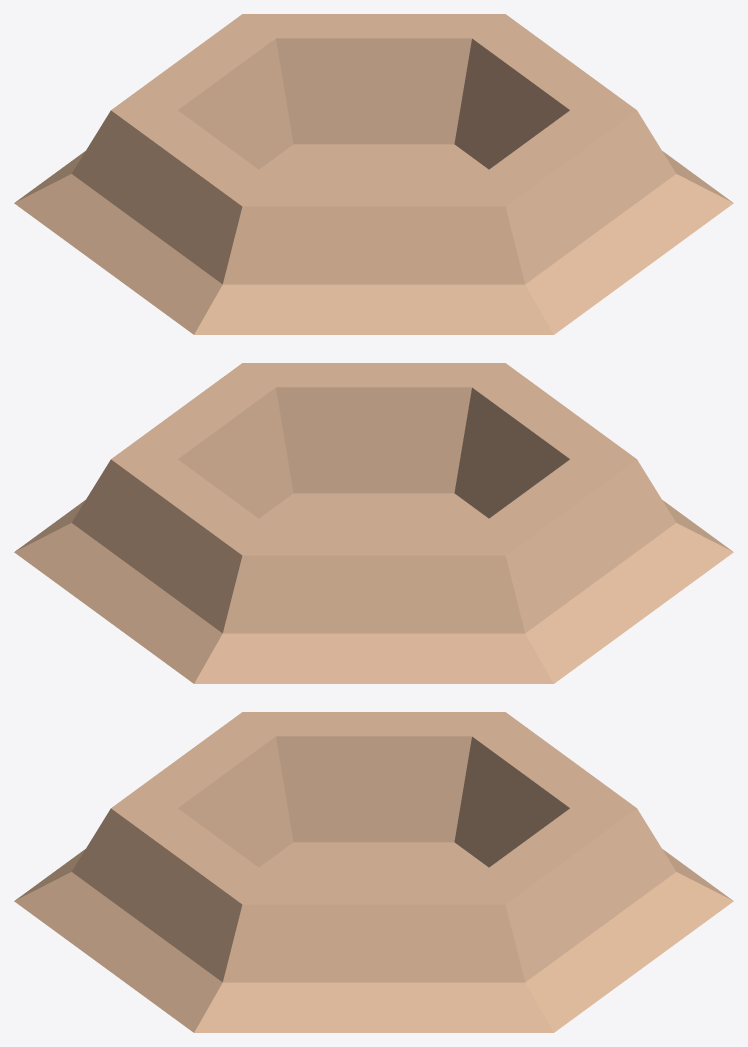
Rendered from crater.glb.
3 views of the same model, one above another, from view 1: azimuth 30°, elevation 25°; view 2: azimuth 150°, elevation 25°; view 3: azimuth 270°, elevation 25° (orthographic).
Parts seen in each view (by area): view 1: crater; view 2: crater; view 3: crater.
Part boxes in pixels (x1,y1,x2,y2): crater: (14, 14, 733, 334); crater: (14, 363, 733, 683); crater: (14, 712, 733, 1032).
Bounding box in the file's own units: 7.15 × 1.18 × 8.26.
